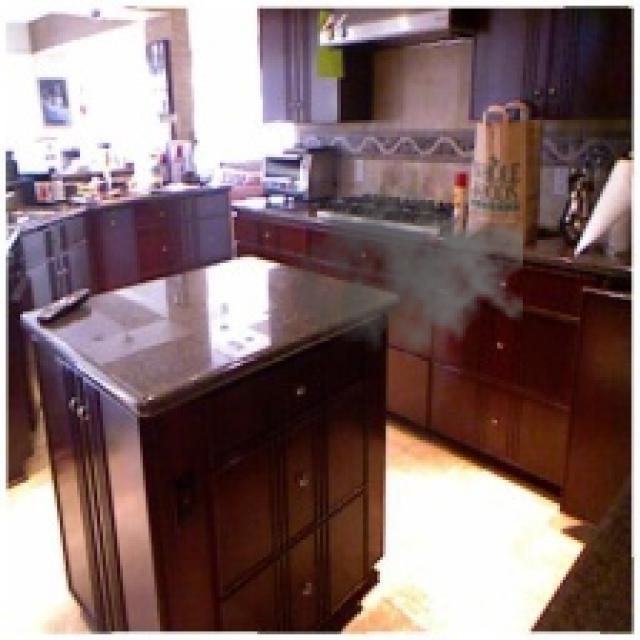smoke: (286, 174, 523, 374)
